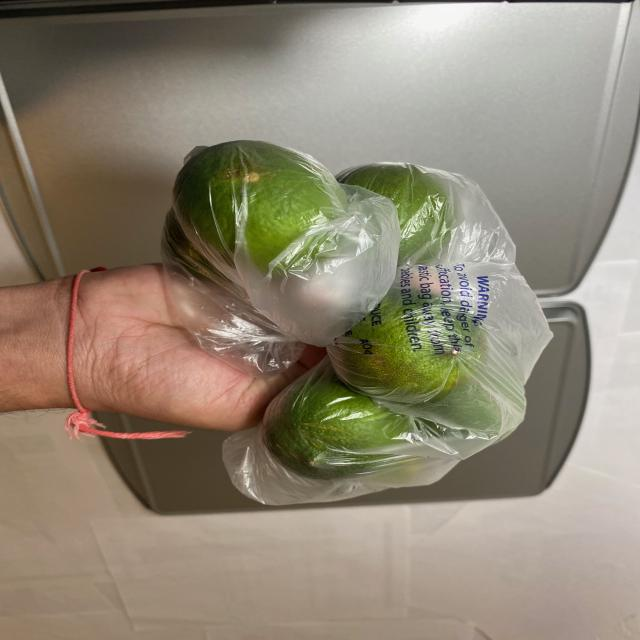lemon: (155, 136, 529, 483)
